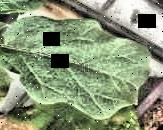HEALTHY: (0, 0, 163, 129)
